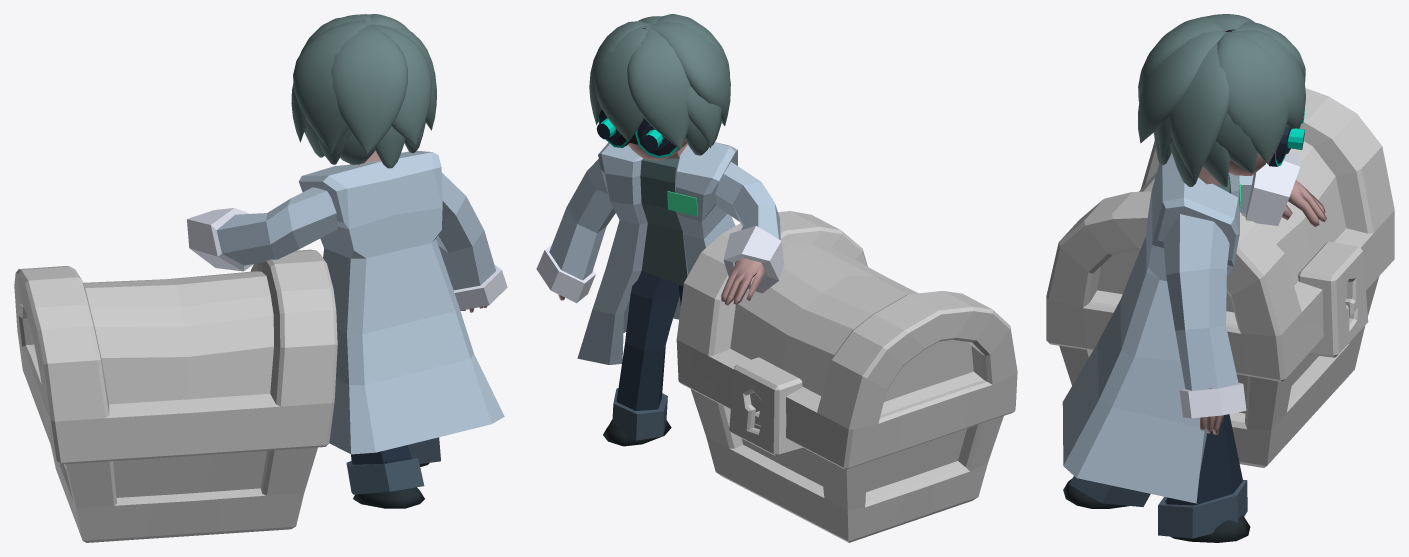
Rendered from SM_merchant.fbx.
The picture shows the model from 3 angles, left to right: view 1: azimuth 30°, elevation 25°; view 2: azimuth 150°, elevation 25°; view 3: azimuth 270°, elevation 25°; orthographic projection. The views are drawn at different scales.
Visible parts, largest first — view 1: chest, body, head; view 2: chest, body, head; view 3: body, chest, head.
Part boxes in pixels (x1=…): chest: x1=14, y1=249, x2=337, y2=542; body: x1=187, y1=150, x2=507, y2=508; head: x1=291, y1=14, x2=436, y2=168; chest: x1=676, y1=211, x2=1017, y2=542; body: x1=536, y1=142, x2=784, y2=446; head: x1=589, y1=14, x2=730, y2=160; body: x1=1062, y1=152, x2=1326, y2=542; chest: x1=1046, y1=88, x2=1394, y2=467; head: x1=1138, y1=14, x2=1305, y2=186.
Bounding box in the file's own units: 176 × 100 × 156.
